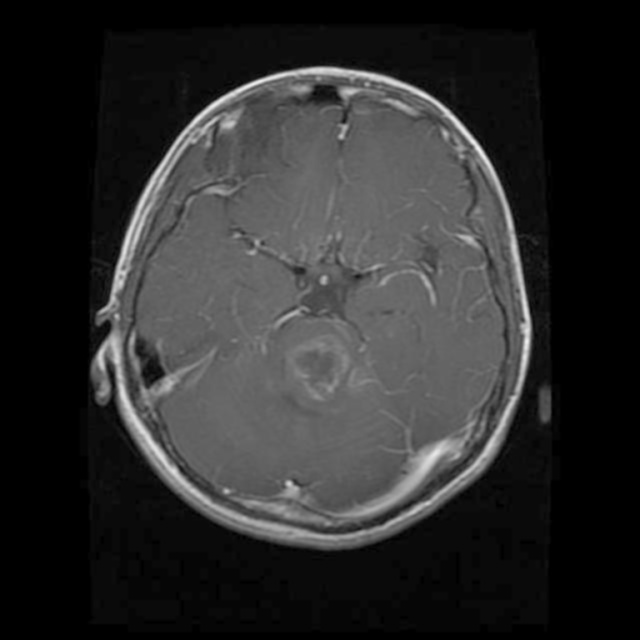pituitary tumor: (290, 334, 348, 388)
